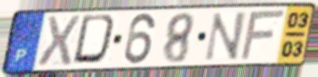6: (122, 12, 156, 66)
8: (160, 11, 197, 64)
D: (70, 13, 121, 67)
F: (238, 8, 288, 62)
N: (201, 10, 248, 63)
X: (35, 14, 83, 69)
